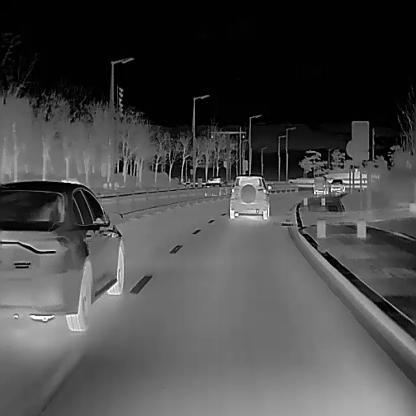car: (0, 180, 124, 331), (229, 175, 271, 219), (201, 175, 227, 195), (312, 177, 329, 194), (330, 179, 346, 192)
